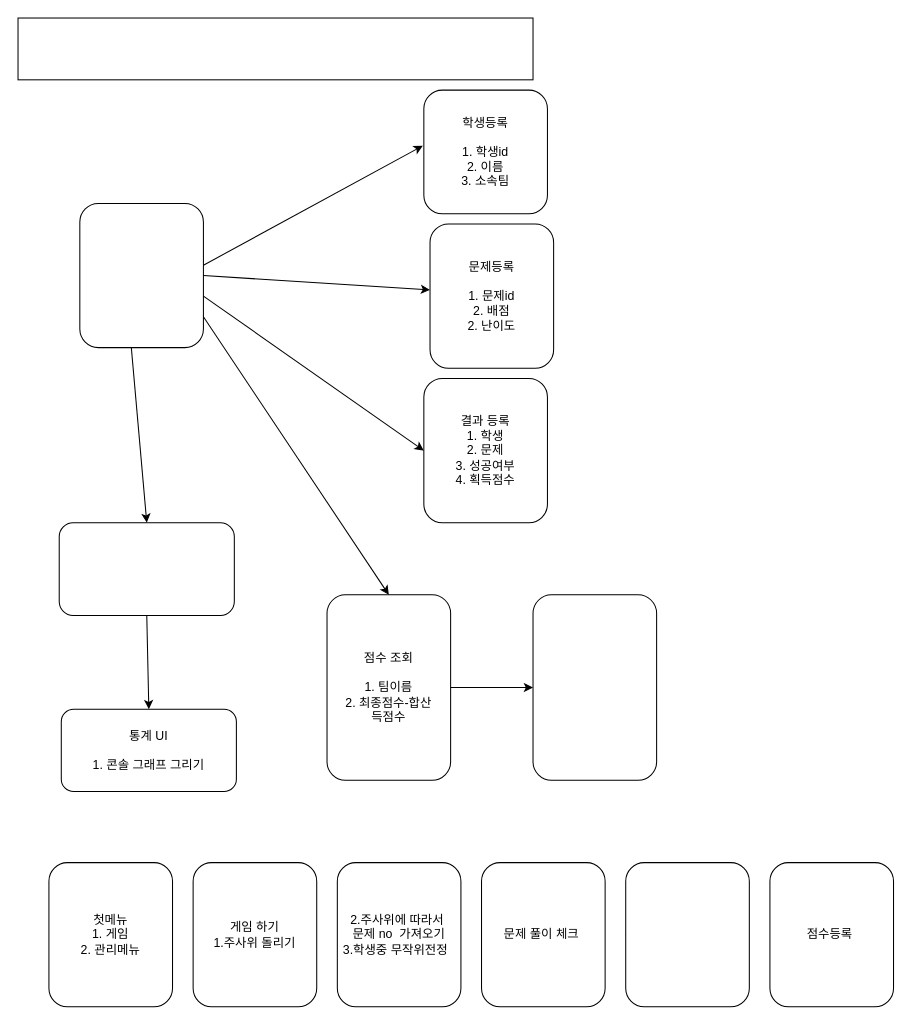
This 912x1025 diagram has some shape labels left out. Here are the shapes that lost their labels. From the top down, the centre of each, then its label:
(x=275, y=48): 자바 페스티벌 문제 관리 프로그램
(x=141, y=275): 메뉴 1. 학생등록 2. 문제등록 3. 결과등록 4. 점수조회 5. 통계 조회
(x=146, y=568): 통계 조회 1. 문제별 정답률 2. 난이도별 정답률
(x=594, y=687): 상세 조회 1. 팀이름 2. 시도한 문제 3. 문제별 획득점수 4. 학생별 획득점수 5. 최종합산 점수
(x=687, y=934): 모든 목숨이 없어질때 까지
